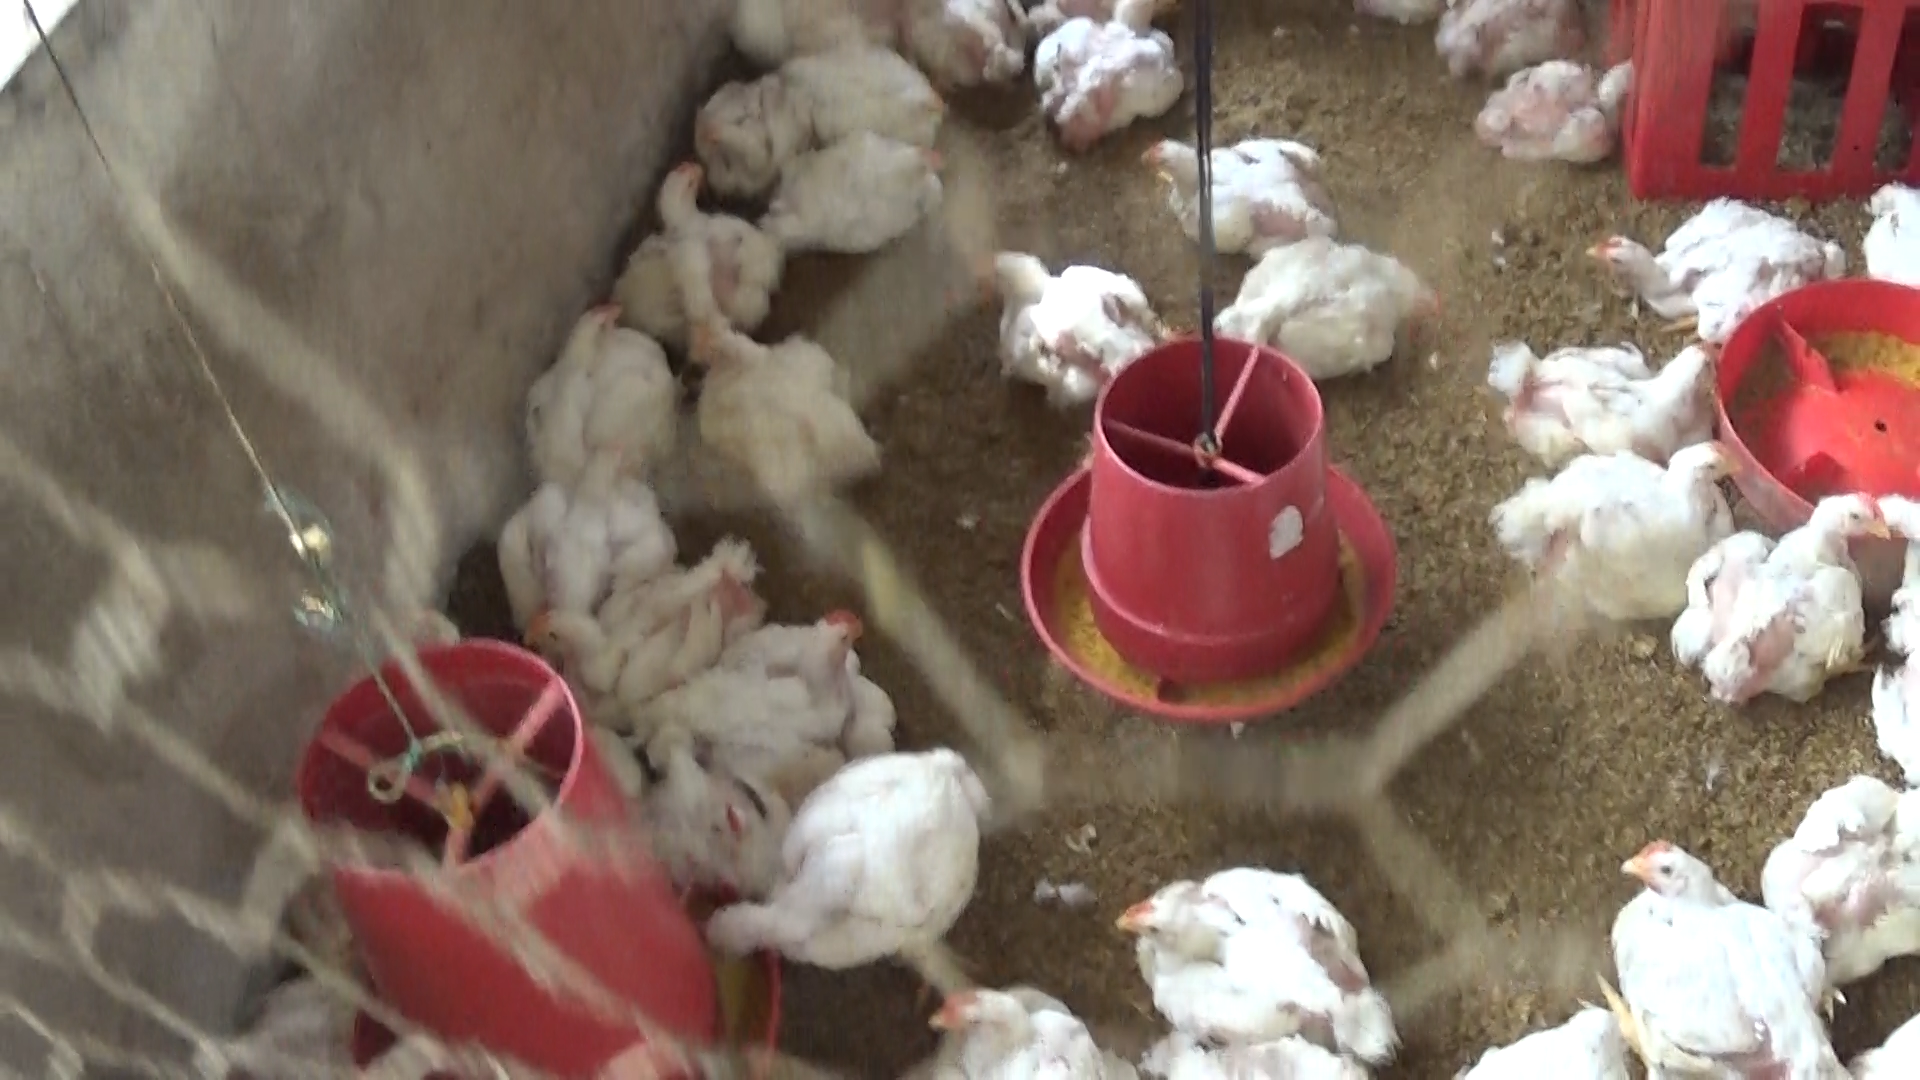Pollos: (707, 731, 997, 1000), (1102, 852, 1402, 1065), (1597, 833, 1821, 1080), (646, 597, 911, 794), (1676, 483, 1902, 709), (1505, 438, 1737, 636), (684, 318, 893, 513), (971, 225, 1178, 413), (526, 541, 764, 702), (1578, 194, 1837, 334), (1211, 232, 1447, 384), (607, 153, 779, 353), (512, 295, 682, 498), (1762, 766, 1920, 982), (1477, 320, 1714, 463), (487, 438, 676, 612), (1022, 0, 1196, 166), (1135, 132, 1336, 251), (766, 132, 942, 266), (906, 967, 1112, 1080), (1462, 61, 1656, 169), (761, 36, 951, 137), (691, 65, 811, 204), (1420, 0, 1597, 76), (899, 0, 1025, 83)
